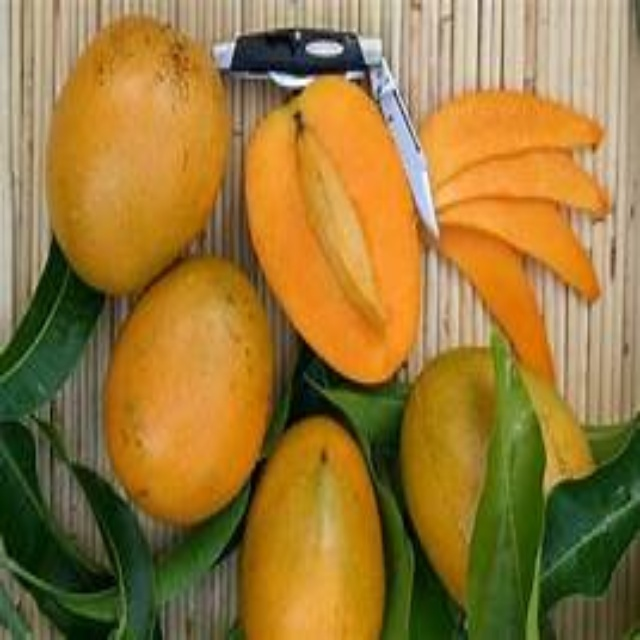mango: (402, 341, 601, 612), (249, 84, 428, 382), (51, 16, 232, 293), (107, 265, 264, 515), (237, 416, 395, 638)
